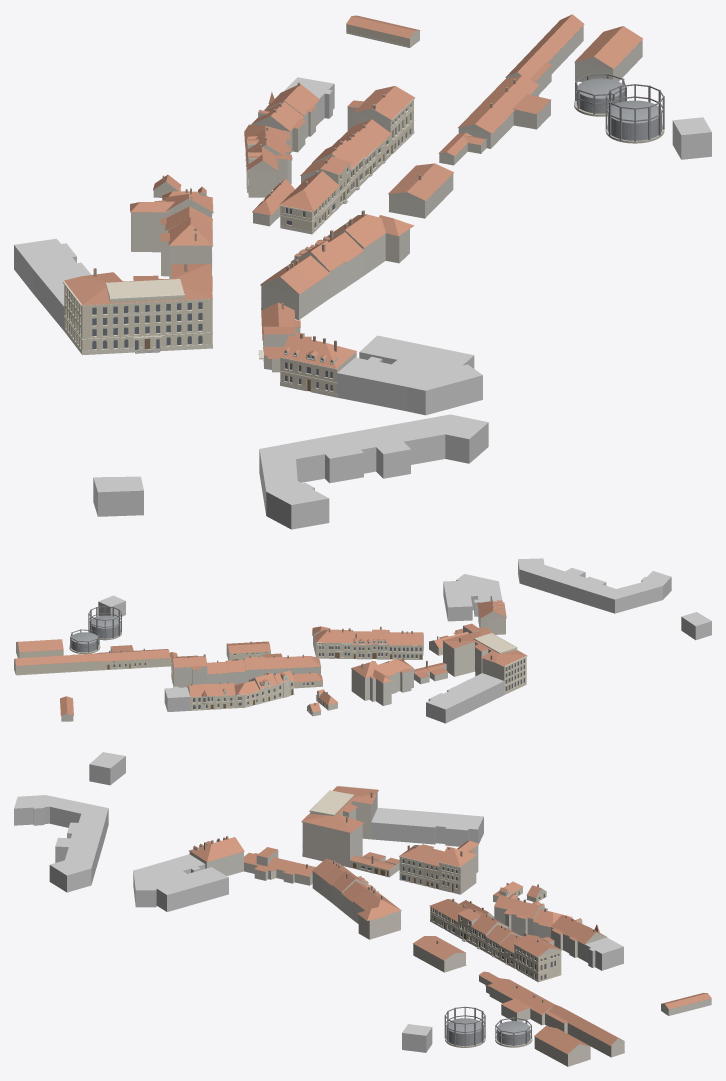
The model's file is u_hriste_street.glb.
3 views of the same model, one above another, from view 1: azimuth 30°, elevation 25°; view 2: azimuth 150°, elevation 25°; view 3: azimuth 270°, elevation 25° (orthographic). The views are drawn at different scales.
Visible parts, largest first — view 1: Context_GIS_463, CP_1733_Masonry, Context_GIS_621, Context_GIS_622, Context_GIS_478, CP_1733_Roof, Context_GIS_477, Context_GIS_462, CP_523_b_Roof, Context_GIS_646, Context_GIS_647, Context_GIS_620 (+23 smaller); view 2: Context_GIS_463, CP_1733_Masonry, Context_GIS_478, Context_GIS_621, Context_GIS_647, Context_GIS_646, CP_416_Masonry, CP_1733_Roof, CP_G1529_Masonry, CP_G1529_Roof, CP_671_Masonry, CP_523_b_Roof (+23 smaller); view 3: Context_GIS_463, CP_1733_Masonry, Context_GIS_621, Context_GIS_647, Context_GIS_478, Context_GIS_646, CP_1733_Roof, CP_671_Masonry, CP_416_Masonry, Context_GIS_477, Context_GIS_1131, Context_GIS_462 (+20 smaller).
Part boxes in pixels (bbox=[...]): Context_GIS_463: bbox=[310, 414, 488, 483]; CP_1733_Masonry: bbox=[64, 285, 212, 354]; Context_GIS_621: bbox=[359, 335, 474, 411]; Context_GIS_622: bbox=[407, 364, 482, 415]; Context_GIS_478: bbox=[259, 439, 324, 515]; CP_1733_Roof: bbox=[64, 264, 212, 305]; Context_GIS_477: bbox=[266, 481, 329, 529]; Context_GIS_462: bbox=[93, 476, 143, 516]; CP_523_b_Roof: bbox=[458, 75, 539, 133]; Context_GIS_646: bbox=[14, 238, 76, 293]; Context_GIS_647: bbox=[33, 262, 91, 330]; Context_GIS_620: bbox=[337, 356, 390, 404]; Context_GIS_463: bbox=[518, 558, 606, 605]; CP_1733_Masonry: bbox=[443, 641, 526, 694]; Context_GIS_478: bbox=[589, 582, 662, 613]; Context_GIS_621: bbox=[443, 581, 501, 621]; Context_GIS_647: bbox=[447, 673, 504, 712]; Context_GIS_646: bbox=[426, 691, 468, 723]; CP_416_Masonry: bbox=[351, 668, 391, 705]; CP_1733_Roof: bbox=[442, 630, 526, 666]; CP_G1529_Masonry: bbox=[14, 660, 99, 674]; CP_G1529_Roof: bbox=[15, 653, 99, 665]; CP_671_Masonry: bbox=[171, 658, 207, 687]; CP_523_b_Roof: bbox=[97, 649, 170, 661]; Context_GIS_463: bbox=[49, 822, 104, 892]; CP_1733_Masonry: bbox=[302, 793, 377, 867]; Context_GIS_621: bbox=[146, 861, 228, 911]; Context_GIS_647: bbox=[371, 807, 441, 844]; Context_GIS_478: bbox=[45, 795, 108, 839]; Context_GIS_646: bbox=[436, 813, 483, 846]; CP_1733_Roof: bbox=[301, 786, 378, 832]; CP_671_Masonry: bbox=[514, 941, 561, 981]; CP_416_Masonry: bbox=[439, 845, 478, 894]; Context_GIS_477: bbox=[14, 795, 49, 825]; Context_GIS_1131: bbox=[585, 937, 623, 970]; Context_GIS_462: bbox=[89, 752, 125, 785].
Size of the model in its own units: 300 by 19.55 by 297.
